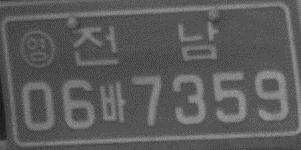0: (21, 80, 56, 131)
3: (172, 73, 207, 126)
5: (211, 71, 247, 124)
6: (61, 78, 96, 130)
7: (131, 74, 163, 127)
9: (254, 70, 290, 122)
바: (98, 81, 128, 123)
영: (18, 28, 56, 69)
전남_D: (71, 21, 219, 67)
